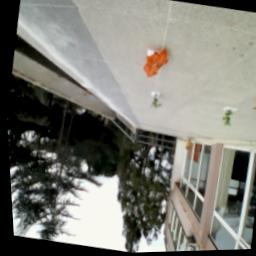herb: (148, 94, 163, 114)
wild: (137, 42, 174, 84), (218, 110, 235, 130)
